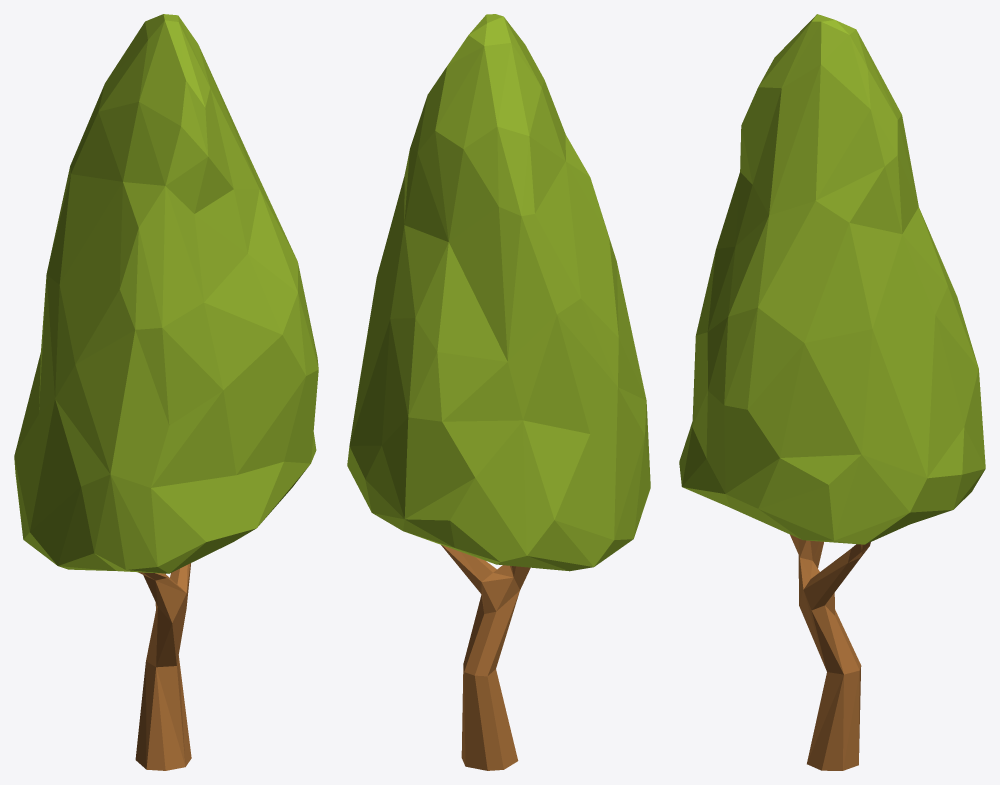
File: tree_10.glb
3 renders of one model, left to right at view 1: azimuth 30°, elevation 25°; view 2: azimuth 150°, elevation 25°; view 3: azimuth 270°, elevation 25°, orthographic.
Parts seen in each view (by area): view 1: Lowpoly_Tree_10_Material.004_0, Lowpoly_Tree_10_Material_0; view 2: Lowpoly_Tree_10_Material.004_0, Lowpoly_Tree_10_Material_0; view 3: Lowpoly_Tree_10_Material.004_0, Lowpoly_Tree_10_Material_0.
Part boxes in pixels (box(x1,y1,x2,y2)): Lowpoly_Tree_10_Material.004_0: box(14, 14, 318, 573); Lowpoly_Tree_10_Material_0: box(135, 563, 191, 770); Lowpoly_Tree_10_Material.004_0: box(347, 14, 650, 571); Lowpoly_Tree_10_Material_0: box(441, 545, 530, 770); Lowpoly_Tree_10_Material.004_0: box(679, 14, 985, 544); Lowpoly_Tree_10_Material_0: box(790, 534, 870, 770).
Size of the model in its own units: 0.4541 by 1.26 by 0.4704.
